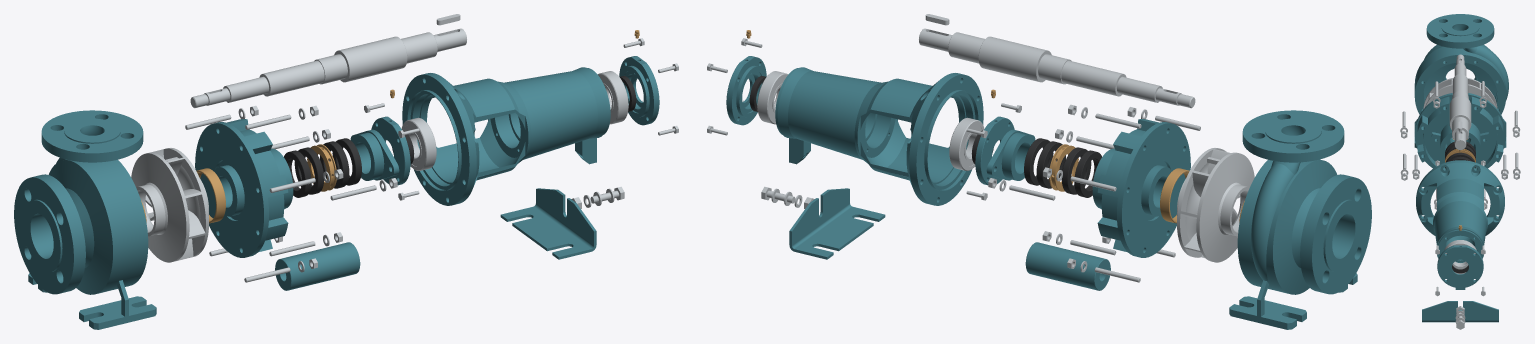
The model's file is bomba-n32-125.glb.
The picture shows the model from 3 angles, left to right: view 1: azimuth 30°, elevation 25°; view 2: azimuth 150°, elevation 25°; view 3: azimuth 270°, elevation 25°; orthographic projection. The views are drawn at different scales.
Parts seen in each view (by area): view 1: 01 Carcasa de bomba - lamina 03:1, 04 Alojamiento de rodamientos - lamina 06:1, 03 Adaptador de bomba - lamina 05:1, 05 Eje - lamina 08:1, 02 Impulsor - lamina 07:1, 14 Soporte - lamina 14:1, 07 Camara de sello - lamina 09:1, 08 Tapa de rodamiento - lamina 13:2, 06 Prensaestopas - lamina 12:1, 08 Tapa de rodamiento - lamina 13:1, 13 Rodamiento SKF 6207-2RS1:1, 13 Rodamiento SKF 6207-2RS1:2 (+6 smaller); view 2: 01 Carcasa de bomba - lamina 03:1, 04 Alojamiento de rodamientos - lamina 06:1, 03 Adaptador de bomba - lamina 05:1, 05 Eje - lamina 08:1, 02 Impulsor - lamina 07:1, 14 Soporte - lamina 14:1, 07 Camara de sello - lamina 09:1, 08 Tapa de rodamiento - lamina 13:2, 06 Prensaestopas - lamina 12:1, 08 Tapa de rodamiento - lamina 13:1, 13 Rodamiento SKF 6207-2RS1:1, 13 Rodamiento SKF 6207-2RS1:2 (+6 smaller); view 3: 04 Alojamiento de rodamientos - lamina 06:1, 01 Carcasa de bomba - lamina 03:1, 03 Adaptador de bomba - lamina 05:1, 05 Eje - lamina 08:1, 08 Tapa de rodamiento - lamina 13:2, 14 Soporte - lamina 14:1, 02 Impulsor - lamina 07:1, 13 Rodamiento SKF 6207-2RS1:2, 10 Anillo linterna - lamina 10:1, 11 Empaquetadura - lamina 11:3, 11 Empaquetadura - lamina 11:2.
Boxes of the visible parts, box(x1,y1,x2,y2) form: 01 Carcasa de bomba - lamina 03:1: box(14, 110, 156, 329); 04 Alojamiento de rodamientos - lamina 06:1: box(402, 67, 610, 205); 03 Adaptador de bomba - lamina 05:1: box(195, 119, 293, 257); 05 Eje - lamina 08:1: box(190, 28, 466, 108); 02 Impulsor - lamina 07:1: box(131, 148, 208, 262); 14 Soporte - lamina 14:1: box(500, 188, 596, 259); 07 Camara de sello - lamina 09:1: box(275, 242, 360, 290); 08 Tapa de rodamiento - lamina 13:2: box(619, 56, 659, 125); 06 Prensaestopas - lamina 12:1: box(350, 129, 399, 180); 08 Tapa de rodamiento - lamina 13:1: box(371, 116, 410, 185); 13 Rodamiento SKF 6207-2RS1:1: box(401, 117, 436, 170); 13 Rodamiento SKF 6207-2RS1:2: box(598, 71, 628, 124); 01 Carcasa de bomba - lamina 03:1: box(1229, 110, 1371, 329); 04 Alojamiento de rodamientos - lamina 06:1: box(775, 67, 983, 205); 03 Adaptador de bomba - lamina 05:1: box(1092, 119, 1190, 257); 05 Eje - lamina 08:1: box(919, 28, 1195, 108); 02 Impulsor - lamina 07:1: box(1177, 148, 1254, 262); 14 Soporte - lamina 14:1: box(789, 188, 885, 259); 07 Camara de sello - lamina 09:1: box(1025, 242, 1110, 290); 08 Tapa de rodamiento - lamina 13:2: box(726, 56, 766, 125); 06 Prensaestopas - lamina 12:1: box(986, 129, 1035, 180); 08 Tapa de rodamiento - lamina 13:1: box(975, 116, 1014, 185); 13 Rodamiento SKF 6207-2RS1:1: box(949, 117, 984, 170); 13 Rodamiento SKF 6207-2RS1:2: box(757, 71, 787, 124); 04 Alojamiento de rodamientos - lamina 06:1: box(1416, 160, 1504, 289); 01 Carcasa de bomba - lamina 03:1: box(1414, 14, 1508, 148); 03 Adaptador de bomba - lamina 05:1: box(1414, 93, 1506, 168); 05 Eje - lamina 08:1: box(1449, 54, 1471, 150); 08 Tapa de rodamiento - lamina 13:2: box(1437, 245, 1483, 287); 14 Soporte - lamina 14:1: box(1422, 301, 1498, 322); 02 Impulsor - lamina 07:1: box(1423, 78, 1497, 138); 13 Rodamiento SKF 6207-2RS1:2: box(1444, 240, 1476, 274); 10 Anillo linterna - lamina 10:1: box(1445, 149, 1475, 162); 11 Empaquetadura - lamina 11:3: box(1445, 152, 1475, 167); 11 Empaquetadura - lamina 11:2: box(1445, 145, 1475, 159).
Size of the model in its own units: 0.982 by 0.366 by 0.2496.
